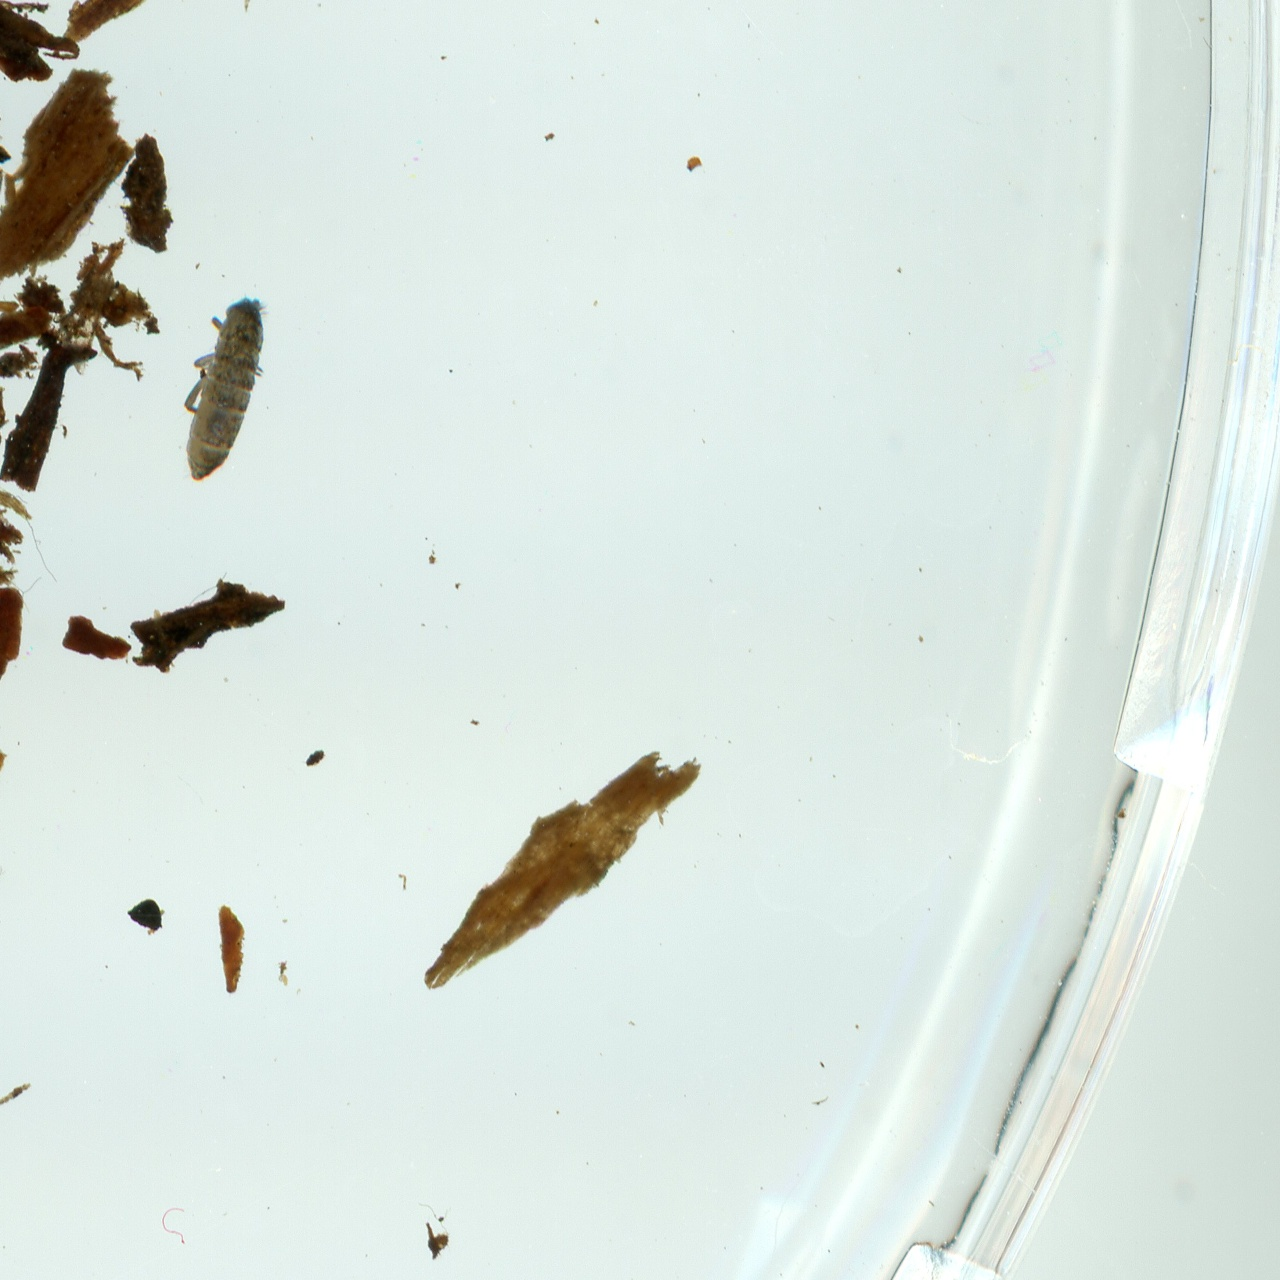arthropod: (162, 278, 282, 498)
